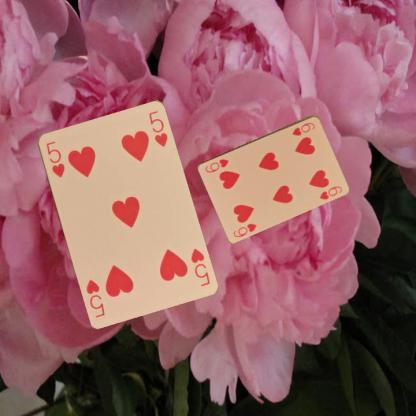5h: (188, 245, 211, 288), (43, 138, 66, 179)
6h: (231, 221, 258, 238), (290, 120, 316, 137)
